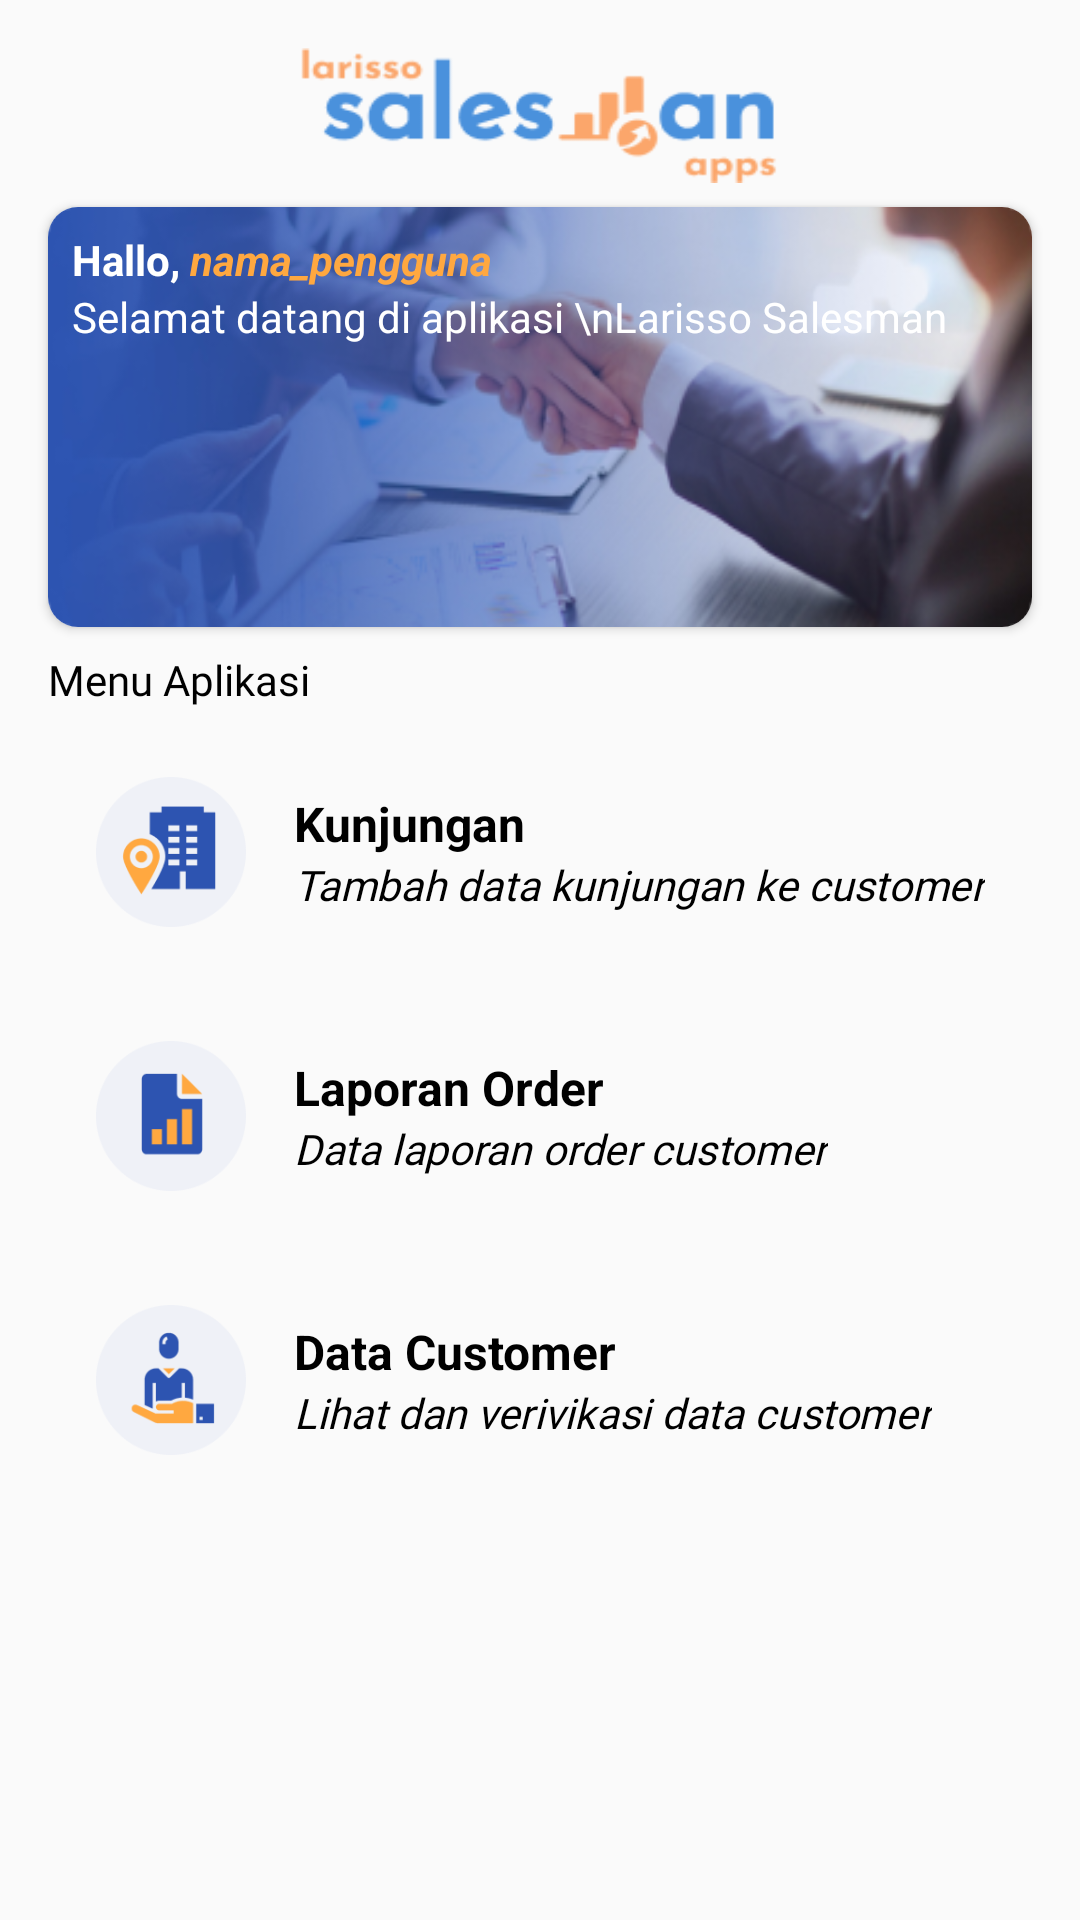

Icons on this 1080*1920 Android screen, each with its box as (x1, y1, x2, y2):
dashboard customer: (96, 1305, 246, 1455)
dashboard order: (141, 1073, 203, 1155)
